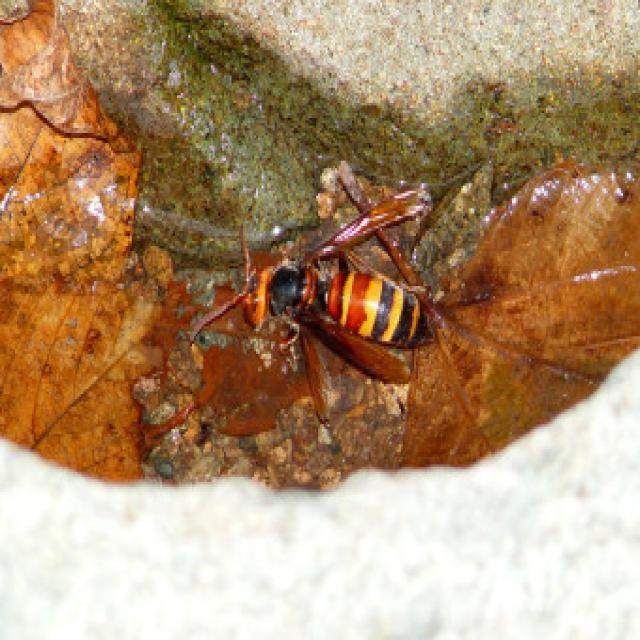Wasp: (193, 194, 437, 386)
